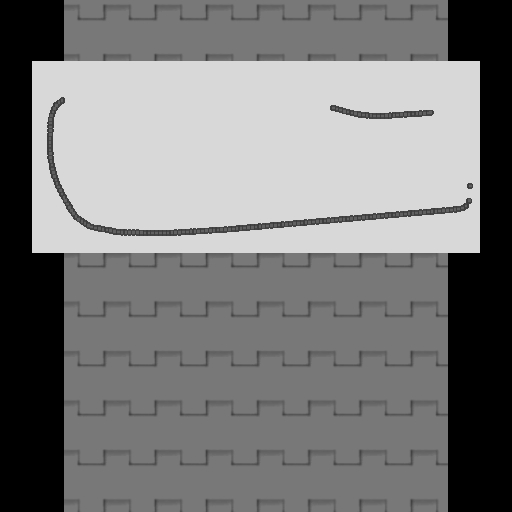Defect: (63, 82, 330, 116)
